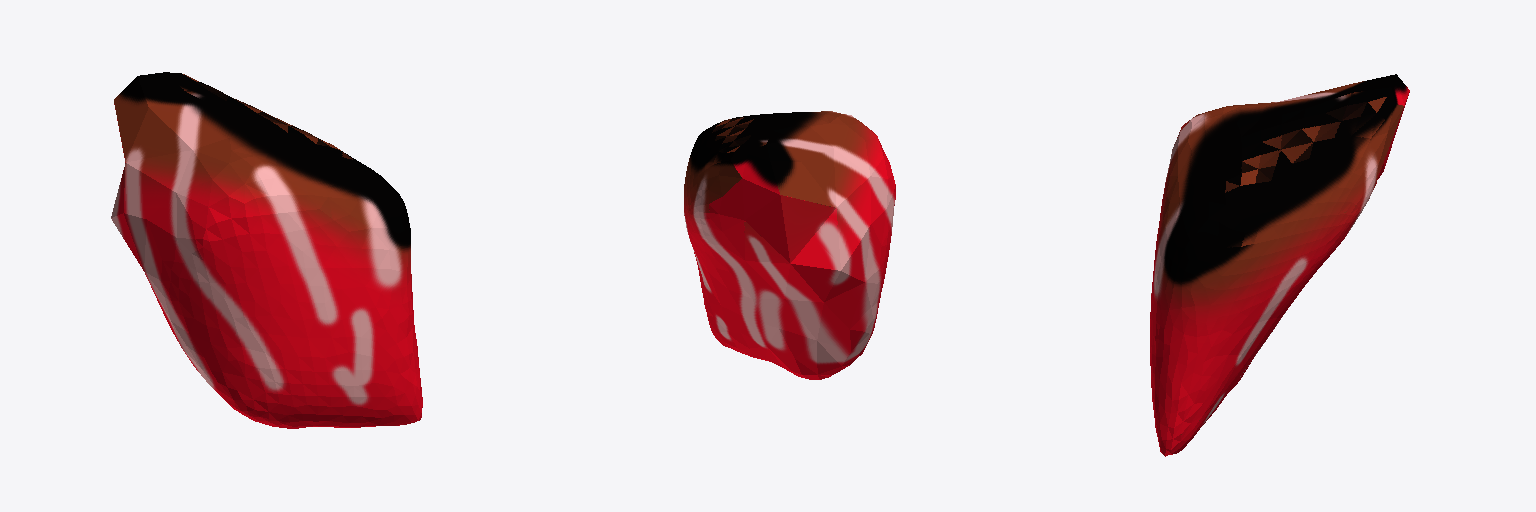
The picture shows the model from 3 angles: view 1: azimuth 30°, elevation 25°; view 2: azimuth 150°, elevation 25°; view 3: azimuth 270°, elevation 25°; orthographic projection.
Parts seen in each view (by area): view 1: Cube; view 2: Cube; view 3: Cube.
Boxes of the visible parts, box(x1,y1,x2,y2) form: Cube: box(111, 72, 422, 428); Cube: box(684, 111, 895, 379); Cube: box(1150, 74, 1409, 456).
Bounding box in the file's own units: 1.69 × 2.2 × 1.7.
1 materials, 1 textured.